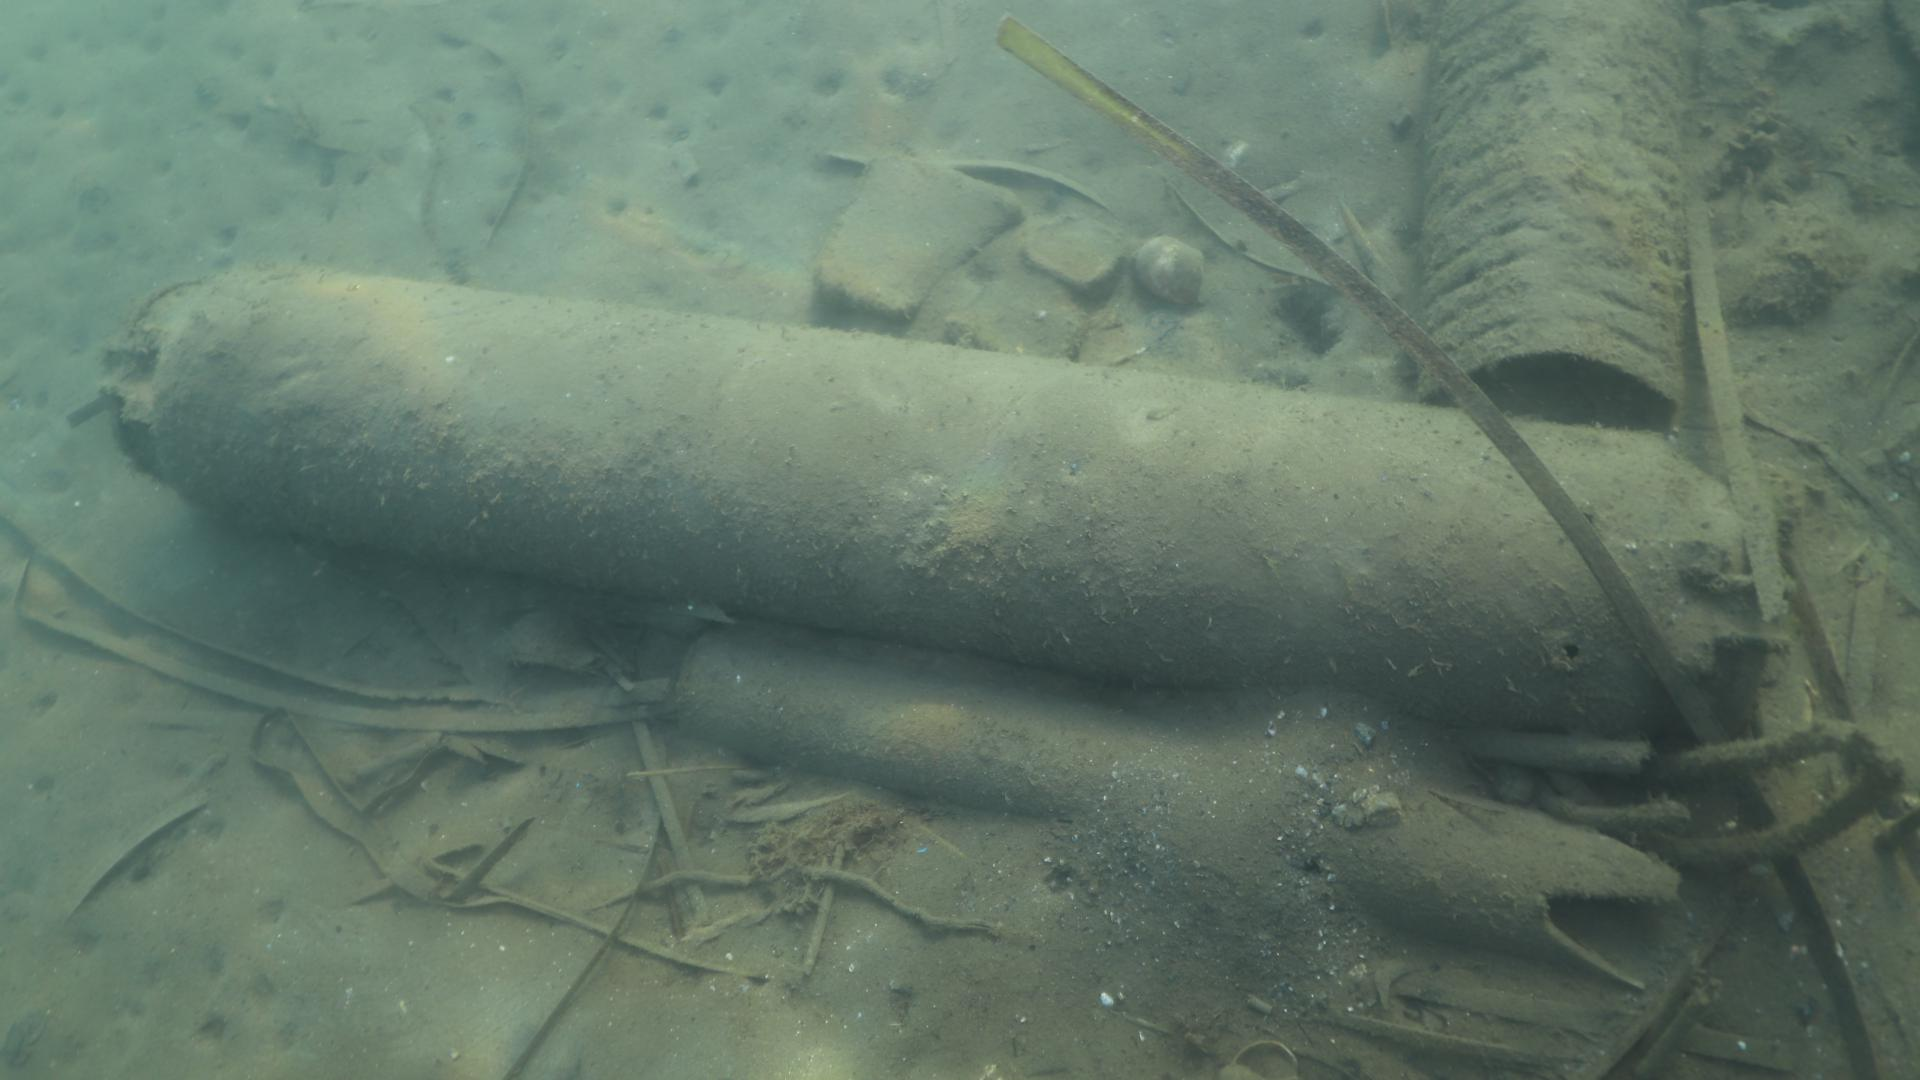eel fish trap: (98, 258, 1735, 740)
